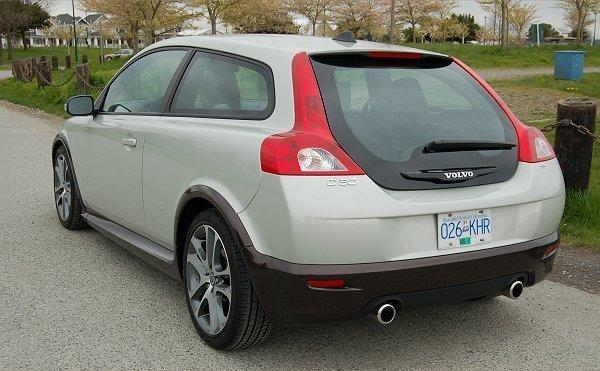car: (44, 21, 588, 357)
